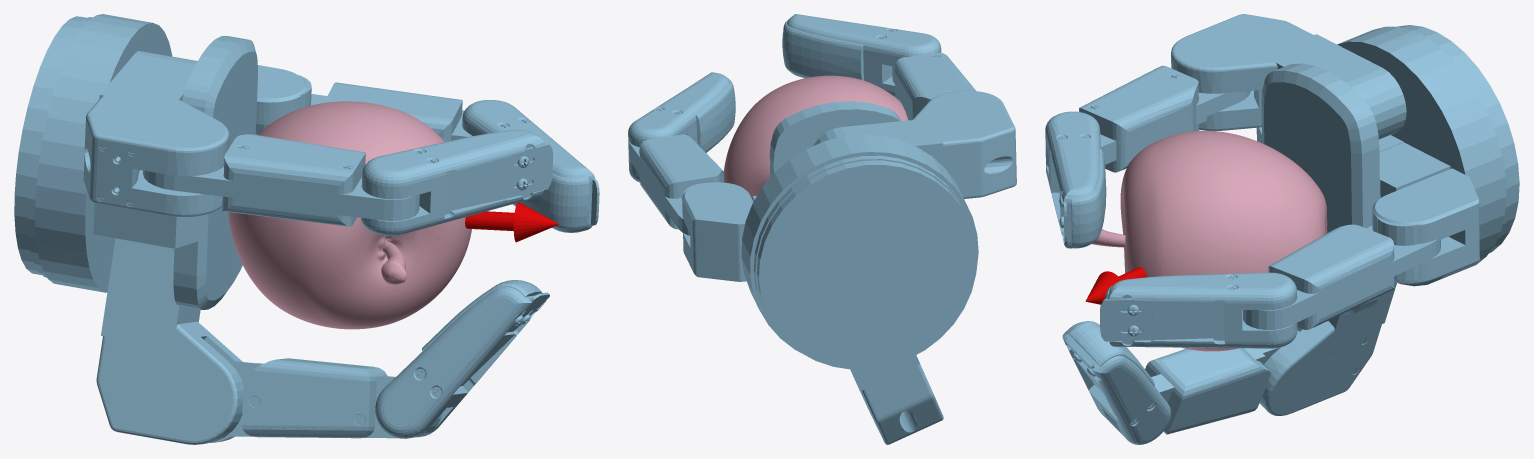
The picture shows the model from 3 angles, left to right: view 1: azimuth 30°, elevation 25°; view 2: azimuth 150°, elevation 25°; view 3: azimuth 270°, elevation 25°; orthographic projection. The views are drawn at different scales.
Parts seen in each view (by area): view 1: world, apple.stl; view 2: world, apple.stl; view 3: world, apple.stl.
Boxes of the visible parts, left/top/right/bottom form: world: left=14, top=14, right=599, bottom=444; apple.stl: left=228, top=101, right=471, bottom=329; world: left=628, top=14, right=1016, bottom=444; apple.stl: left=723, top=75, right=908, bottom=199; world: left=1045, top=14, right=1519, bottom=444; apple.stl: left=1091, top=131, right=1327, bottom=351.
Bounding box in the file's own units: 0.1704 × 0.1356 × 0.1642.
